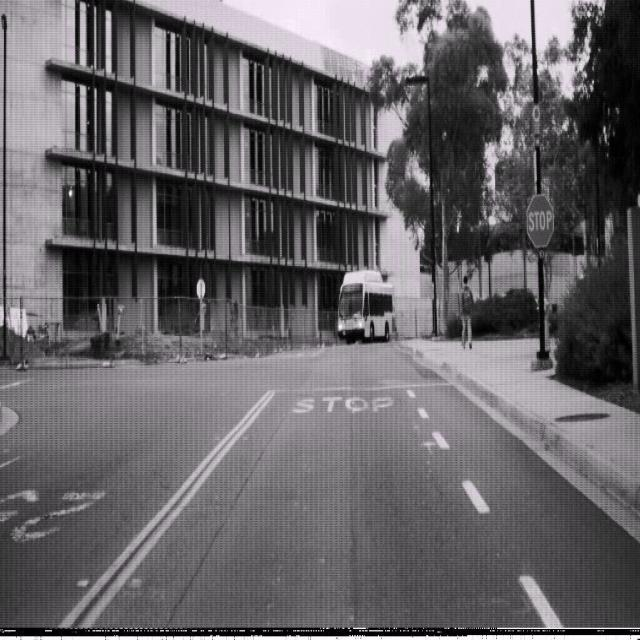stop: (526, 192, 554, 249)
